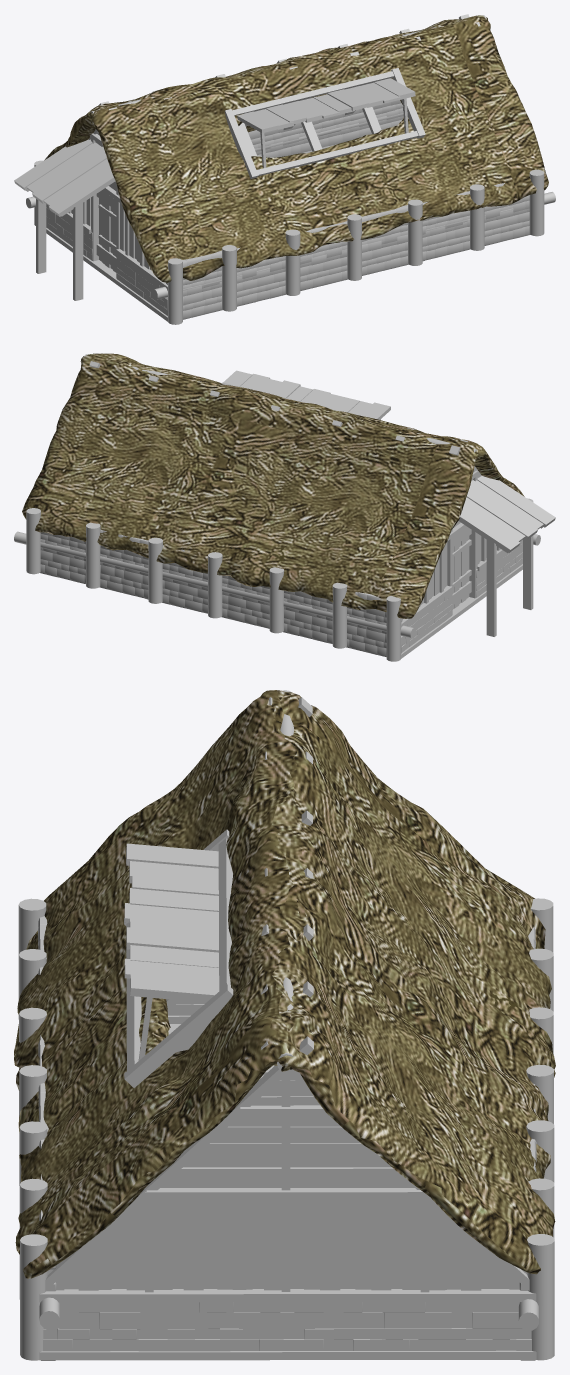
File: lowpoly_viking_house_004.fbx
3 renders of one model, top to bottom at view 1: azimuth 30°, elevation 25°; view 2: azimuth 150°, elevation 25°; view 3: azimuth 270°, elevation 25°, orthographic. The views are drawn at different scales.
Visible parts, largest first — view 1: Plane.009, Wall.145, Cube.2575, Cube.2429, Cube.2427, Cube.2425, Cube.2421, Cube.2424, Cylinder.062, Cylinder.052, Cylinder.054, Cylinder.046 (+16 smaller); view 2: Plane.009, Wall.145, Cylinder.058, Cube.2429, Cube.2420, Cube.2425, Cube.2427, Cube.2424, Cylinder.053, Cylinder.045, Cylinder.051, Cylinder.056 (+8 smaller); view 3: Plane.009, Wall.145, Cube.1602, Cube.2575, Cube.1605, Cube.1600, Cube.1603, Cube.1618, Cylinder.051, Cylinder.052, Cube.1617, Cube.2587 (+47 smaller).
Boxes of the visible parts, left/top/right/bottom form: Plane.009: left=44, top=15, right=548, bottom=282; Wall.145: left=46, top=100, right=530, bottom=319; Cube.2575: left=224, top=68, right=425, bottom=179; Cube.2429: left=96, top=190, right=116, bottom=272; Cube.2427: left=32, top=146, right=106, bottom=203; Cube.2425: left=49, top=166, right=114, bottom=216; Cube.2421: left=73, top=202, right=83, bottom=300; Cube.2424: left=14, top=139, right=92, bottom=190; Cylinder.062: left=222, top=245, right=236, bottom=311; Cylinder.052: left=529, top=169, right=544, bottom=236; Cylinder.054: left=168, top=258, right=182, bottom=324; Cylinder.046: left=408, top=199, right=422, bottom=265; Plane.009: left=22, top=353, right=524, bottom=618; Wall.145: left=40, top=529, right=522, bottom=656; Cylinder.058: left=14, top=531, right=415, bottom=638; Cube.2429: left=452, top=527, right=471, bottom=609; Cube.2420: left=486, top=538, right=496, bottom=636; Cube.2425: left=477, top=476, right=555, bottom=527; Cube.2427: left=466, top=485, right=537, bottom=539; Cube.2424: left=459, top=505, right=519, bottom=552; Cylinder.053: left=386, top=595, right=401, bottom=661; Cylinder.045: left=86, top=522, right=100, bottom=588; Cylinder.051: left=26, top=508, right=40, bottom=574; Cylinder.056: left=148, top=537, right=162, bottom=603; Plane.009: left=14, top=690, right=555, bottom=1278; Wall.145: left=38, top=916, right=536, bottom=1360; Cube.1602: left=39, top=1289, right=536, bottom=1302; Cube.2575: left=124, top=829, right=233, bottom=1087; Cube.1605: left=39, top=1350, right=536, bottom=1360; Cube.1600: left=146, top=1188, right=427, bottom=1200; Cube.1603: left=45, top=1036, right=313, bottom=1290; Cube.1618: left=170, top=1167, right=404, bottom=1179; Cylinder.051: left=527, top=1234, right=554, bottom=1360; Cylinder.052: left=20, top=1234, right=47, bottom=1360; Cube.1617: left=160, top=1179, right=414, bottom=1187; Cube.2587: left=130, top=972, right=219, bottom=1002.
Bounding box in the file's own units: 7.07 × 2.53 × 3.83.
